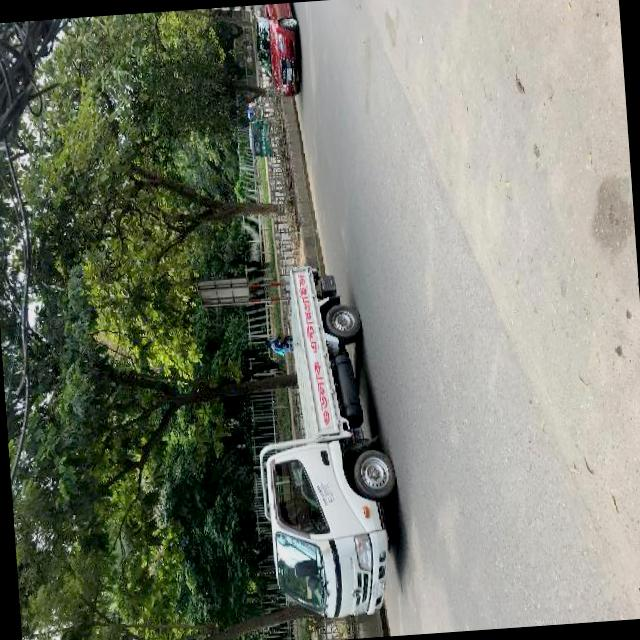car: (251, 2, 304, 99)
motorcycle: (246, 116, 274, 160), (246, 101, 267, 122)
truck: (242, 256, 406, 627)
